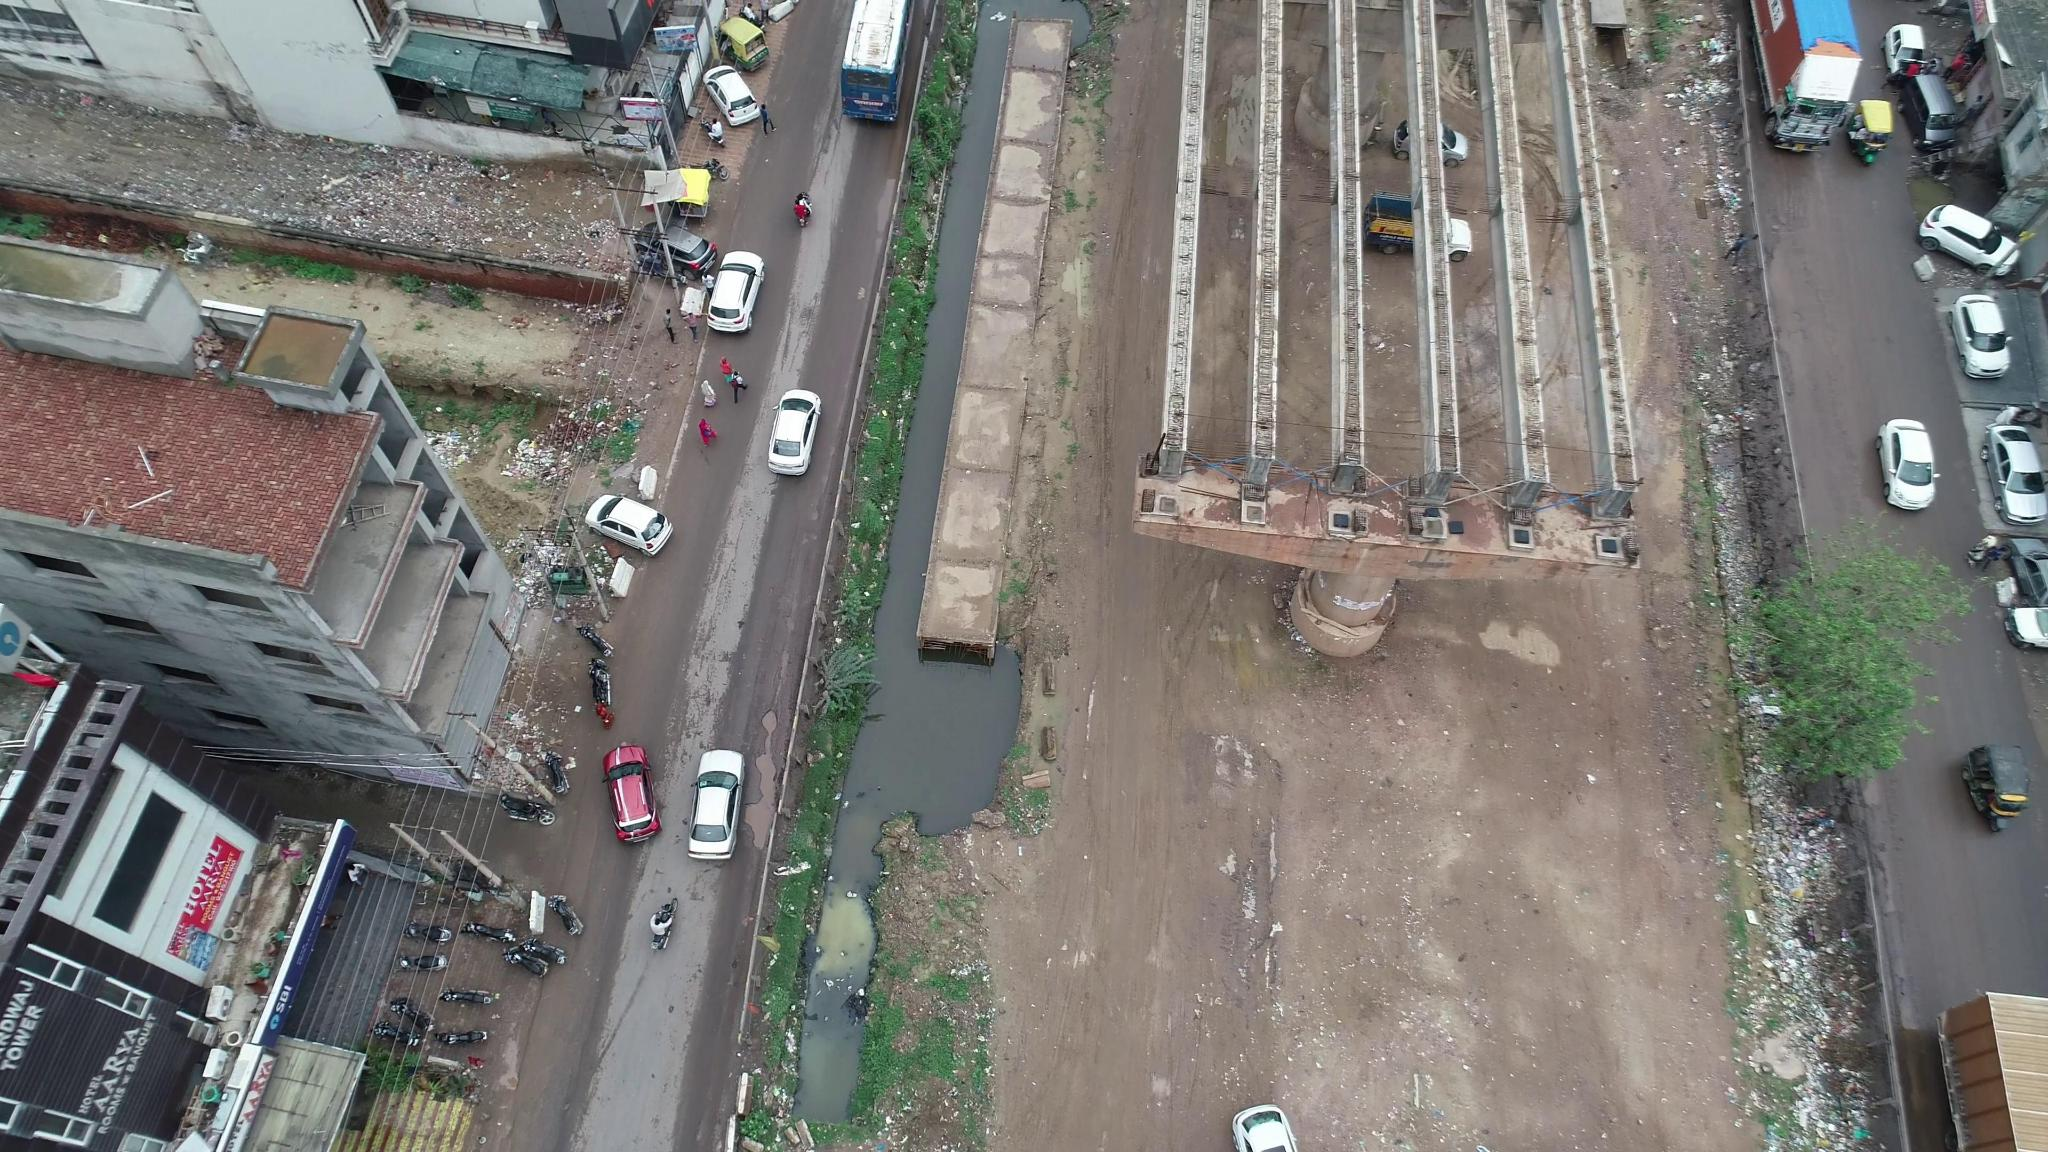Muddy_road: (1771, 174, 1875, 402)
